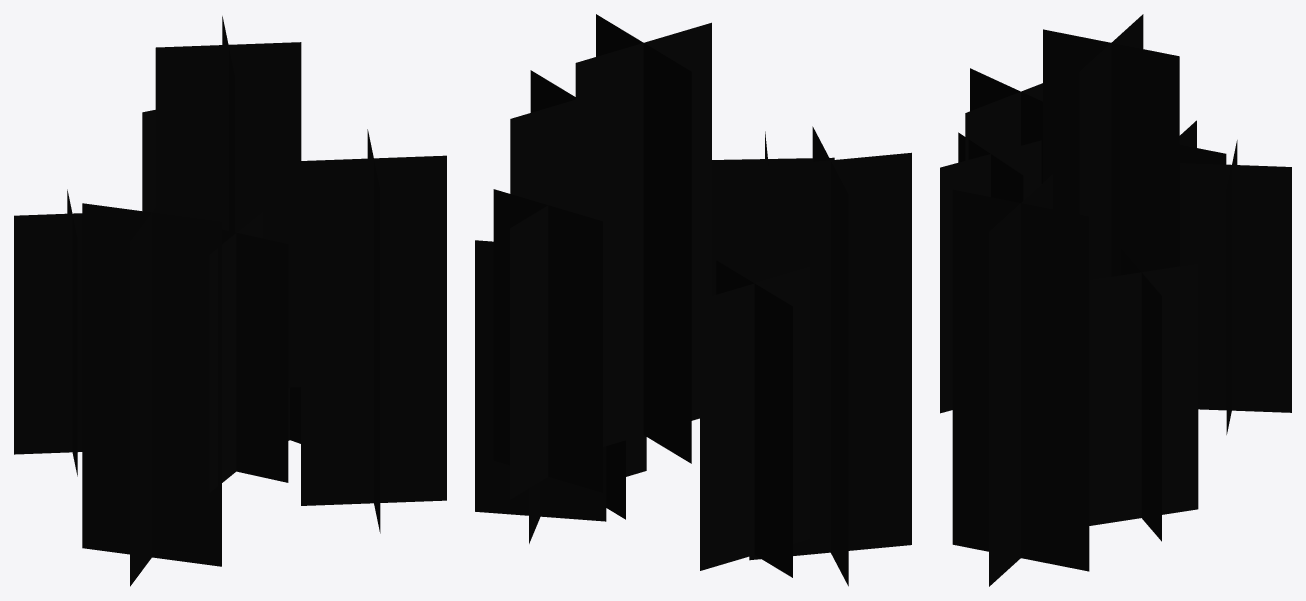
The model's file is sweet_cyan_reed_stage1.obj.
3 views of the same model, side by side, from view 1: azimuth 30°, elevation 25°; view 2: azimuth 150°, elevation 25°; view 3: azimuth 270°, elevation 25° (orthographic). The views are drawn at different scales.
Parts seen in each view (by area): view 1: cube_3, cube_6, cube_2, cube_13, cube_10, cube_5, cube_9, cube_4, cube_14, cube_12, cube_1, cube_15; view 2: cube_5, cube_1, cube_2, cube_14, cube_12, cube_11, cube_13, cube_16, cube_6, cube_4, cube_9, cube_3; view 3: cube_4, cube_11, cube_15, cube_1, cube_3, cube_2, cube_10, cube_16, cube_6, cube_5, cube_9, cube_12 (+1 smaller).
Boxes of the visible parts, <box> form: cube_3: <box>301,155,446,505</box>; cube_6: <box>82,203,221,566</box>; cube_2: <box>155,42,301,387</box>; cube_13: <box>14,213,82,454</box>; cube_10: <box>222,229,288,482</box>; cube_5: <box>130,183,173,586</box>; cube_9: <box>209,211,263,492</box>; cube_4: <box>367,129,380,533</box>; cube_14: <box>67,189,77,476</box>; cube_12: <box>142,110,155,212</box>; cube_1: <box>222,16,234,232</box>; cube_15: <box>290,387,300,443</box>; cube_5: <box>749,152,911,560</box>; cube_1: <box>575,22,711,446</box>; cube_2: <box>596,14,691,463</box>; cube_14: <box>700,267,809,570</box>; cube_12: <box>493,189,602,492</box>; cube_11: <box>510,182,586,499</box>; cube_13: <box>716,260,792,577</box>; cube_16: <box>475,240,606,521</box>; cube_6: <box>812,126,848,586</box>; cube_4: <box>510,99,646,476</box>; cube_9: <box>712,157,834,295</box>; cube_3: <box>530,70,625,519</box>; cube_4: <box>952,189,1089,571</box>; cube_11: <box>1179,163,1291,412</box>; cube_15: <box>1089,263,1198,525</box>; cube_1: <box>1043,29,1179,276</box>; cube_3: <box>989,174,1052,586</box>; cube_2: <box>1079,14,1143,280</box>; cube_10: <box>940,140,1041,413</box>; cube_16: <box>1121,249,1161,541</box>; cube_6: <box>965,83,1042,160</box>; cube_5: <box>970,68,1042,183</box>; cube_9: <box>958,132,1023,202</box>; cube_12: <box>1226,140,1237,434</box>.
Size of the model in its own units: 0.8174 by 1.06 by 0.7299.
